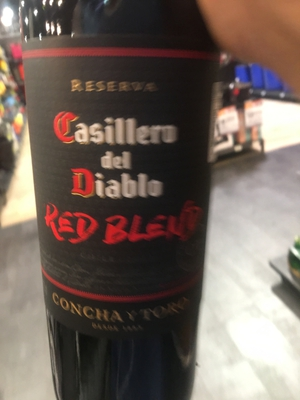casillero del diablo red blend: (20, 17, 237, 400)
